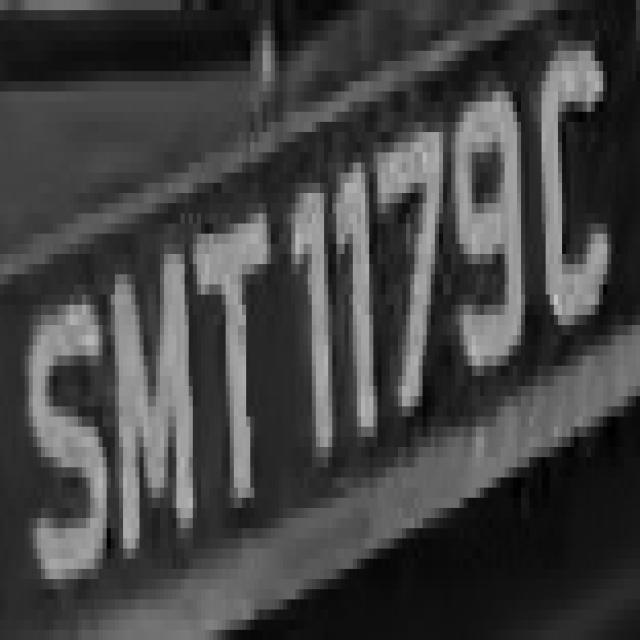1: (287, 152, 341, 498), (332, 132, 386, 478)
7: (373, 122, 448, 427)
9: (439, 81, 533, 396)
C: (534, 21, 620, 356)
M: (103, 213, 205, 569)
S: (16, 244, 119, 630)
T: (181, 173, 283, 518)
